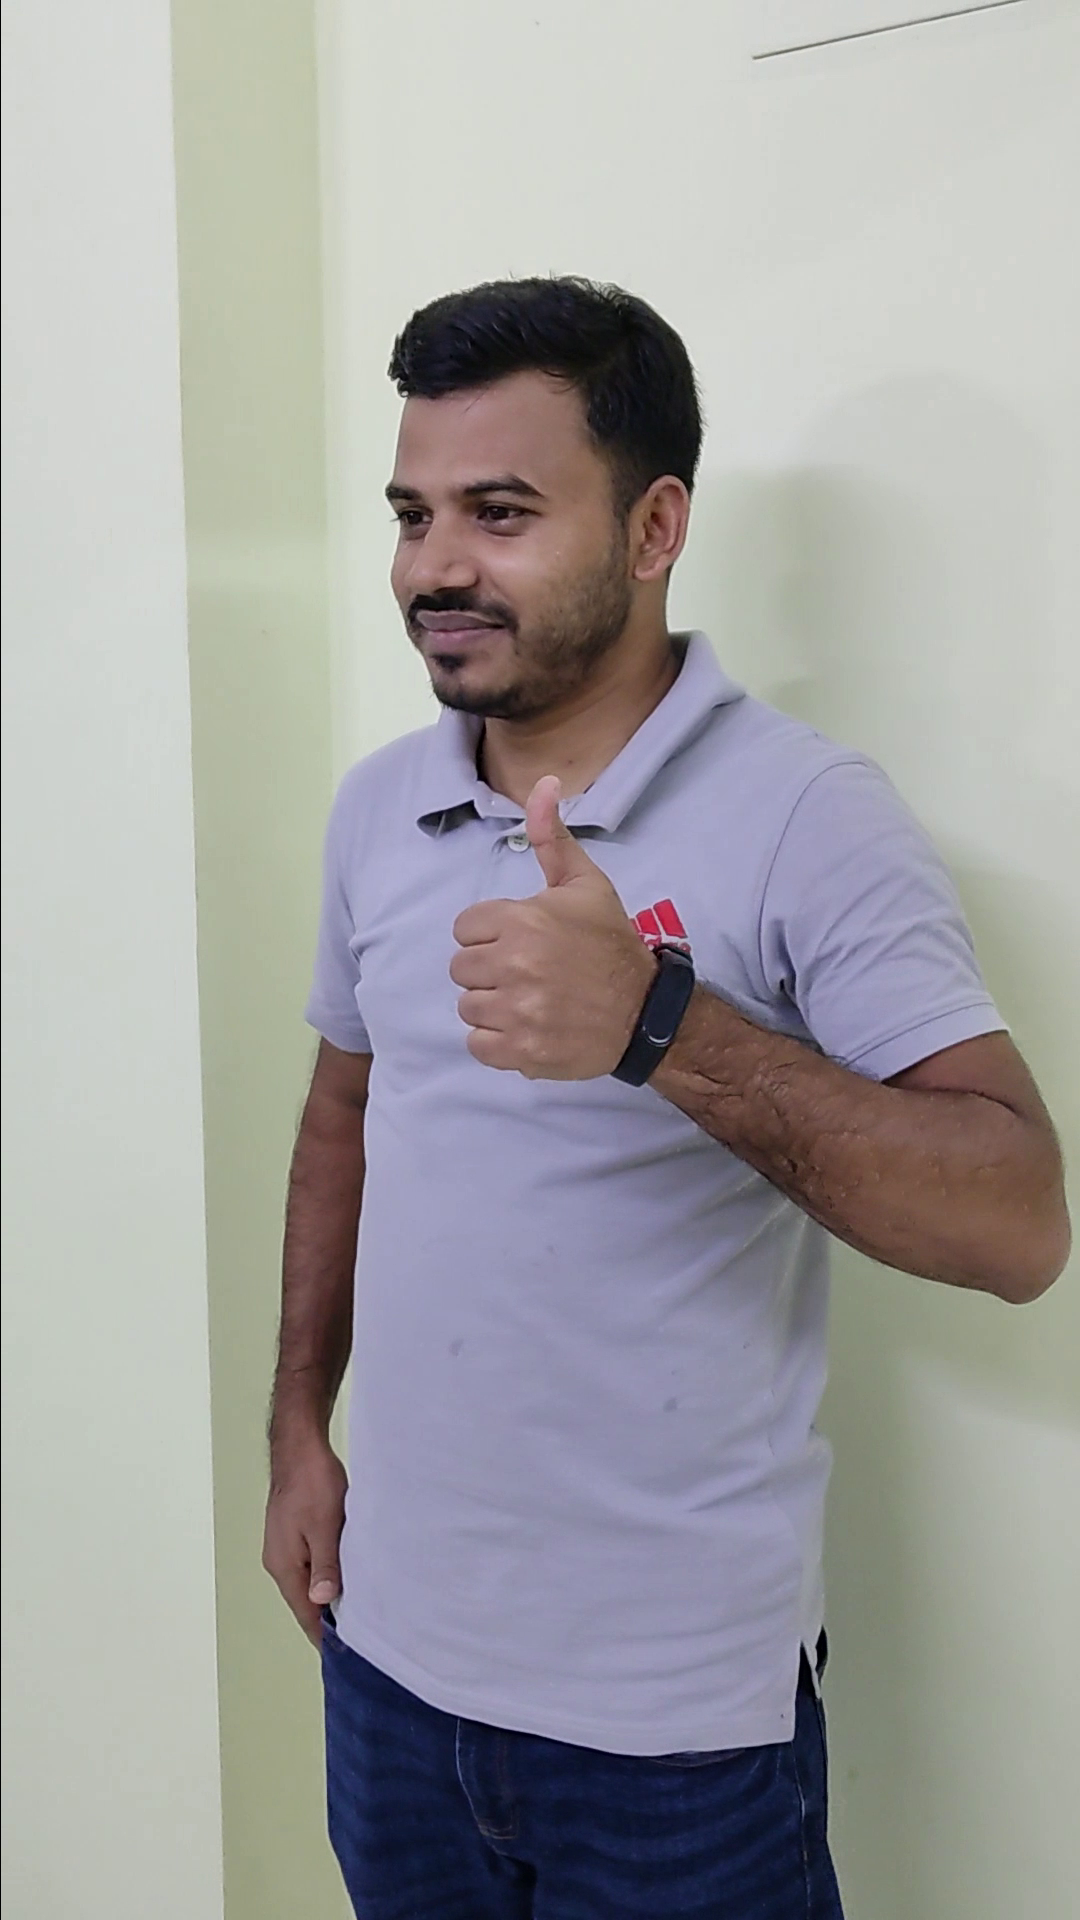Like: (422, 760, 669, 1097)
None: (225, 1377, 373, 1671)
